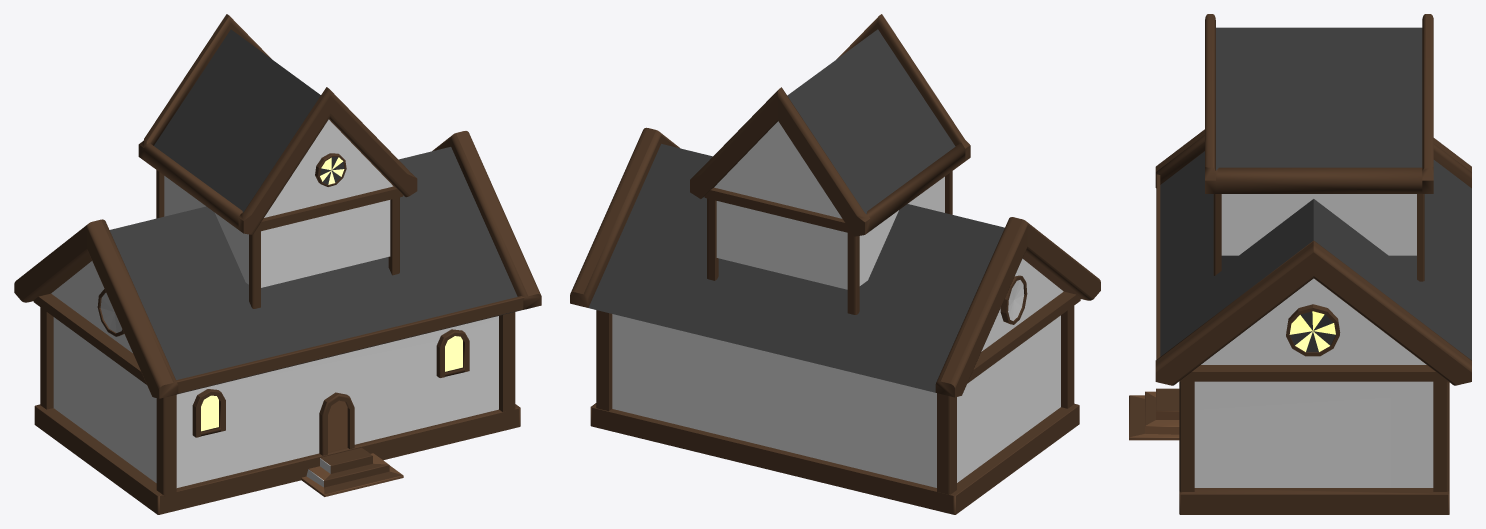
File: corrected.fbx
3 views of the same model, side by side, from view 1: azimuth 30°, elevation 25°; view 2: azimuth 150°, elevation 25°; view 3: azimuth 270°, elevation 25° (orthographic). The views are drawn at different scales.
Parts seen in each view (by area): view 1: haus1.001; view 2: haus1.001; view 3: haus1.001.
Boxes of the visible parts, x1,y1,x2,y2 form: haus1.001: (14,14,541,514); haus1.001: (570,14,1100,514); haus1.001: (1129,14,1471,514).
Size of the model in its own units: 332 by 308 by 236.
